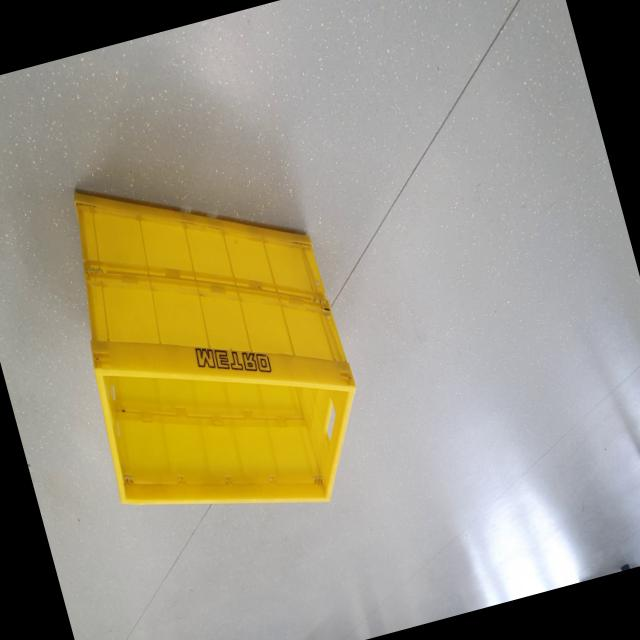box: (27, 120, 396, 582)
